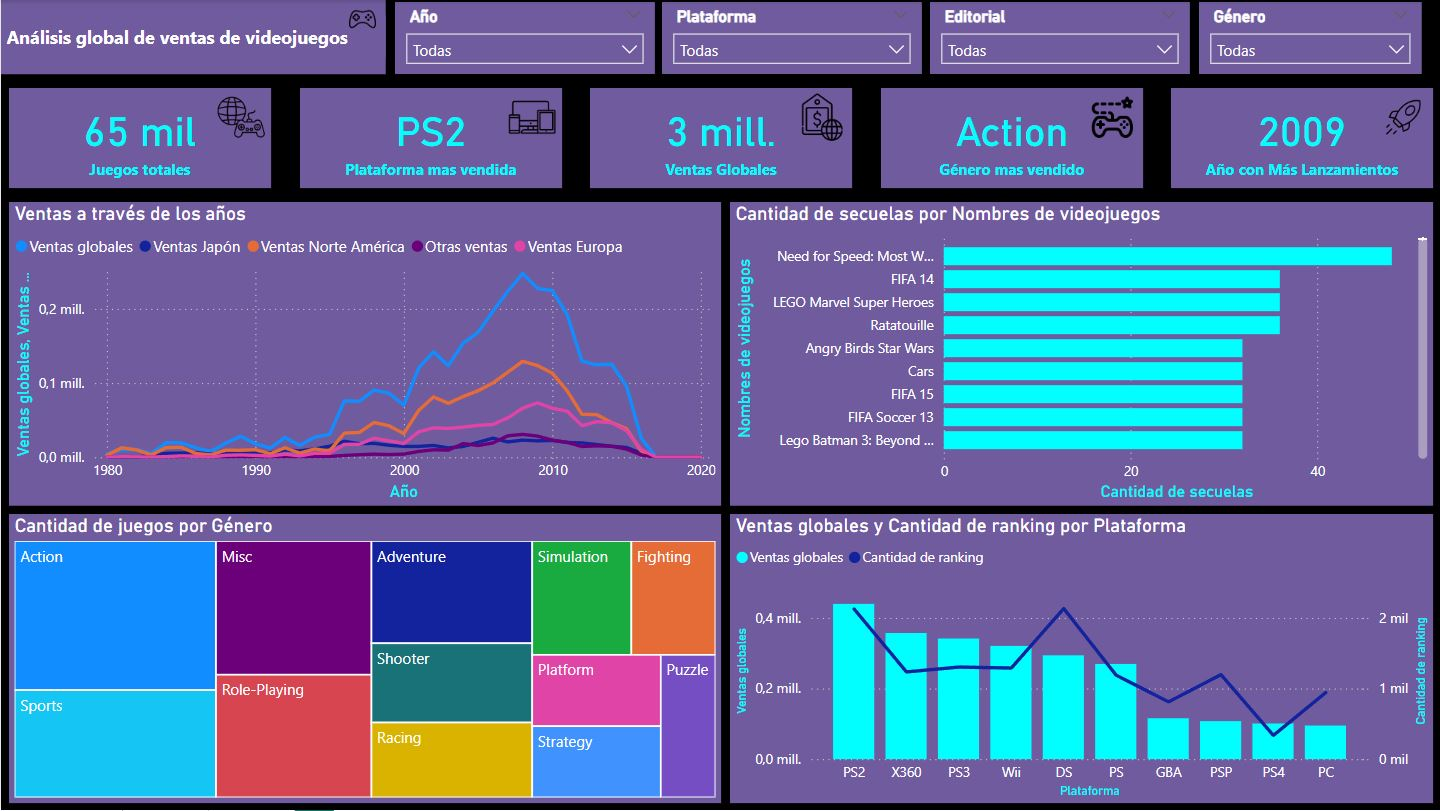

This screenshot's page, from the dashboard's own definition file:
{"tool":"powerbi","page":{"name":"Página 1","canvas":[1280,720],"ordinal":0},"visuals":[{"type":"slicer","fields":{"Values":["vgsales.Year"]},"box":[350.2,1.8,231.1,64],"z":0},{"type":"slicer","fields":{"Values":["vgsales.Platform"]},"box":[587.6,1.8,231.1,64],"z":1000},{"type":"slicer","fields":{"Values":["vgsales.Genre"]},"box":[1064.9,1.8,198.2,64],"z":2000},{"type":"slicer","fields":{"Values":["vgsales.Publisher"]},"box":[825.8,1.8,231.1,64],"z":3000},{"type":"card","fields":{"Values":["vgsales.cant nombres"]},"box":[7.1,78.2,232.9,88.9],"z":4000},{"type":"card","fields":{"Values":["vgsales.Vtas Globales"]},"box":[523.6,78.2,232.9,88.9],"z":5000},{"type":"card","fields":{"Values":["vgsales.Genero_Mas_Vendido"]},"box":[782.2,78.2,232.9,88.9],"z":6000},{"type":"card","fields":{"Values":["vgsales.Plataforma_Mas_Vendido"]},"box":[265.8,78.2,232.9,88.9],"z":7000},{"type":"card","fields":{"Values":["vgsales.Año con Más Lanzamientos"]},"box":[1040,78.2,232.9,88.9],"z":8000},{"type":"shape","box":[0,0,342.2,65.8],"z":9000},{"type":"lineChart","title":"Ventas a través de los años","fields":{"Category":["vgsales.Year"],"Y":["Sum(vgsales.Global_Sales)","Sum(vgsales.JP_Sales)","Sum(vgsales.NA_Sales)","Sum(vgsales.Other_Sales)","Sum(vgsales.EU_Sales)"]},"box":[7.1,179.6,632.9,270.2],"z":10000},{"type":"lineClusteredColumnComboChart","fields":{"Category":["vgsales.Platform"],"Y":["Sum(vgsales.Global_Sales)"],"Y2":["Count(vgsales.Rank)"]},"box":[648,456.9,624.9,256.9],"z":11000},{"type":"treemap","fields":{"Group":["vgsales.Genre"],"Values":["Count(vgsales.Name)"]},"box":[7.1,456.9,632.9,256.9],"z":12000},{"type":"barChart","fields":{"Y":["CountNonNull(vgsales.Name)"],"Category":["vgsales.Name"]},"box":[648,179.6,624.9,270.2],"z":13000},{"type":"image","box":[301.3,0,40.9,33.8],"z":14000},{"type":"image","box":[187.6,78.2,52.4,52.4],"z":15000},{"type":"image","box":[446.2,78.2,52.4,52.4],"z":16000},{"type":"image","box":[703.1,78.2,53.3,52.4],"z":17000},{"type":"image","box":[960.9,78.2,53.3,52.4],"z":18000},{"type":"image","box":[1219.6,78.2,53.3,52.4],"z":19000}]}

Visuals, with their boxes in screenshot pixels (x1, y1, x2, y2), scaled from the page's 1280x720 canvas onto the 1440x811 screenshot:
slicer - vgsales.Year: (left=394, top=2, right=654, bottom=74)
slicer - vgsales.Platform: (left=661, top=2, right=921, bottom=74)
slicer - vgsales.Genre: (left=1198, top=2, right=1421, bottom=74)
slicer - vgsales.Publisher: (left=929, top=2, right=1189, bottom=74)
card - vgsales.cant nombres: (left=8, top=88, right=270, bottom=188)
card - vgsales.Vtas Globales: (left=589, top=88, right=851, bottom=188)
card - vgsales.Genero_Mas_Vendido: (left=880, top=88, right=1142, bottom=188)
card - vgsales.Plataforma_Mas_Vendido: (left=299, top=88, right=561, bottom=188)
card - vgsales.Año con Más Lanzamientos: (left=1170, top=88, right=1432, bottom=188)
shape: (left=0, top=0, right=385, bottom=74)
"Ventas a través de los años" lineChart: (left=8, top=202, right=720, bottom=507)
lineClusteredColumnComboChart - vgsales.Platform x Sum(vgsales.Global_Sales): (left=729, top=515, right=1432, bottom=804)
treemap - vgsales.Genre x Count(vgsales.Name): (left=8, top=515, right=720, bottom=804)
barChart - CountNonNull(vgsales.Name) x vgsales.Name: (left=729, top=202, right=1432, bottom=507)
image: (left=339, top=0, right=385, bottom=38)
image: (left=211, top=88, right=270, bottom=147)
image: (left=502, top=88, right=561, bottom=147)
image: (left=791, top=88, right=851, bottom=147)
image: (left=1081, top=88, right=1141, bottom=147)
image: (left=1372, top=88, right=1432, bottom=147)
